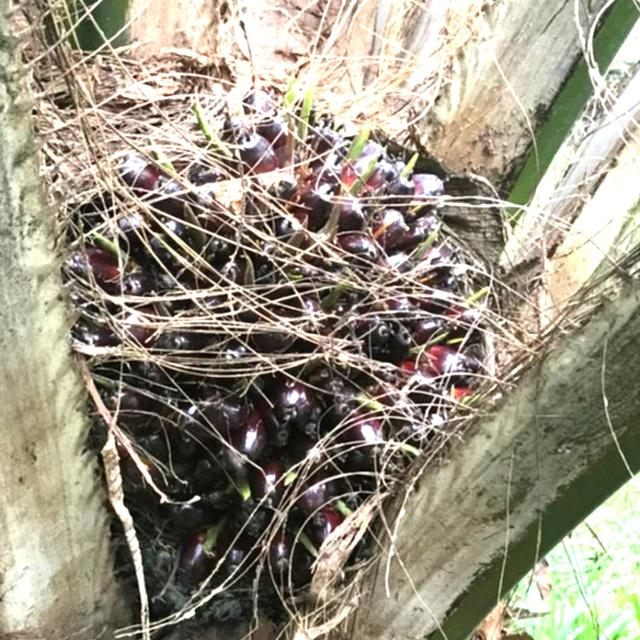ripe: (42, 55, 529, 585)
